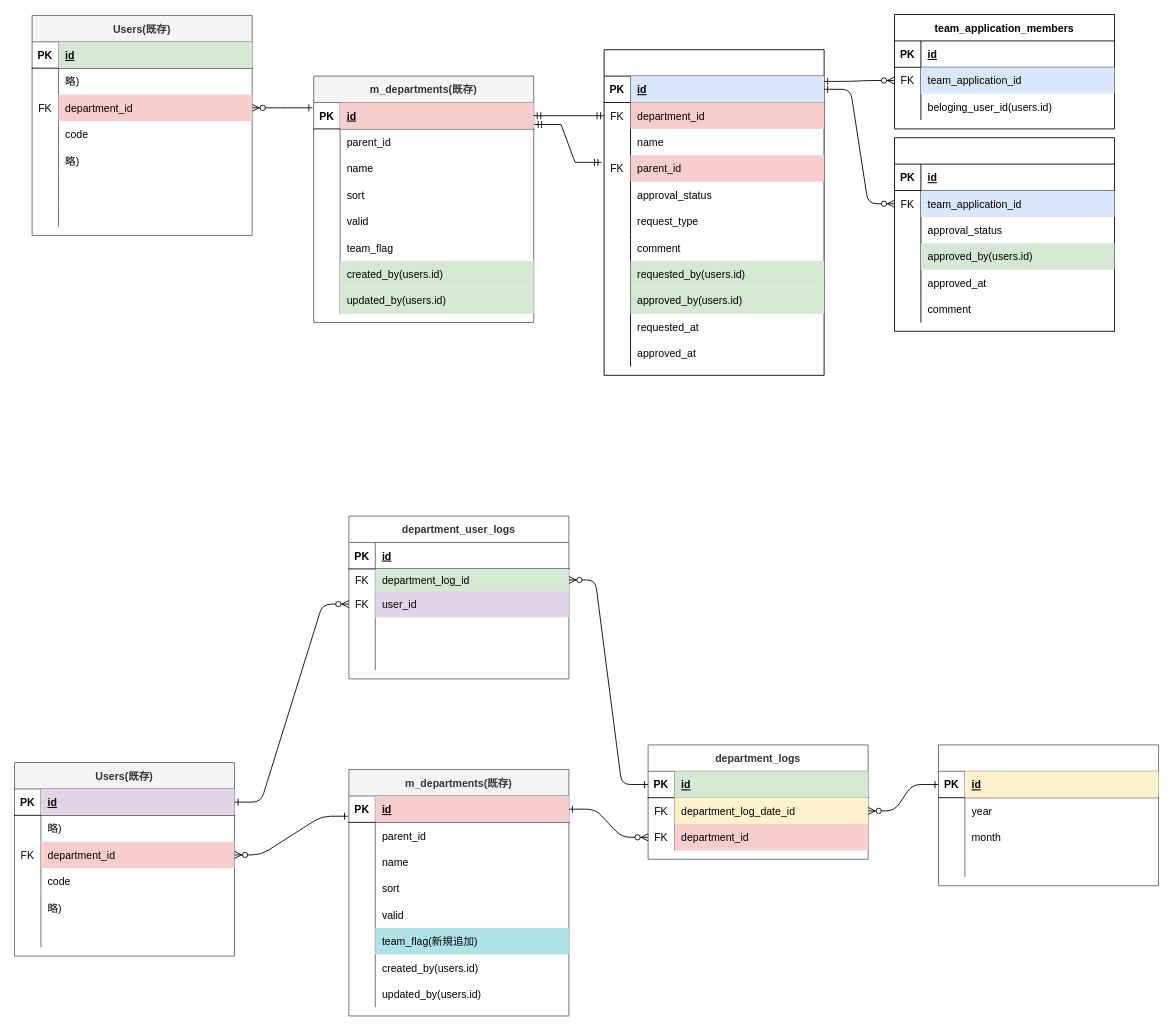
The diagram is 1173 pixels wide and 1030 high, and some of its shapes have lost their labels. The box of each missing label's shape, as (x1, y1, x2, y2) in pixels:
department_log_dates: (938, 744, 1159, 886)
team_applications: (603, 49, 824, 375)
team_approval_logs: (894, 137, 1115, 331)
